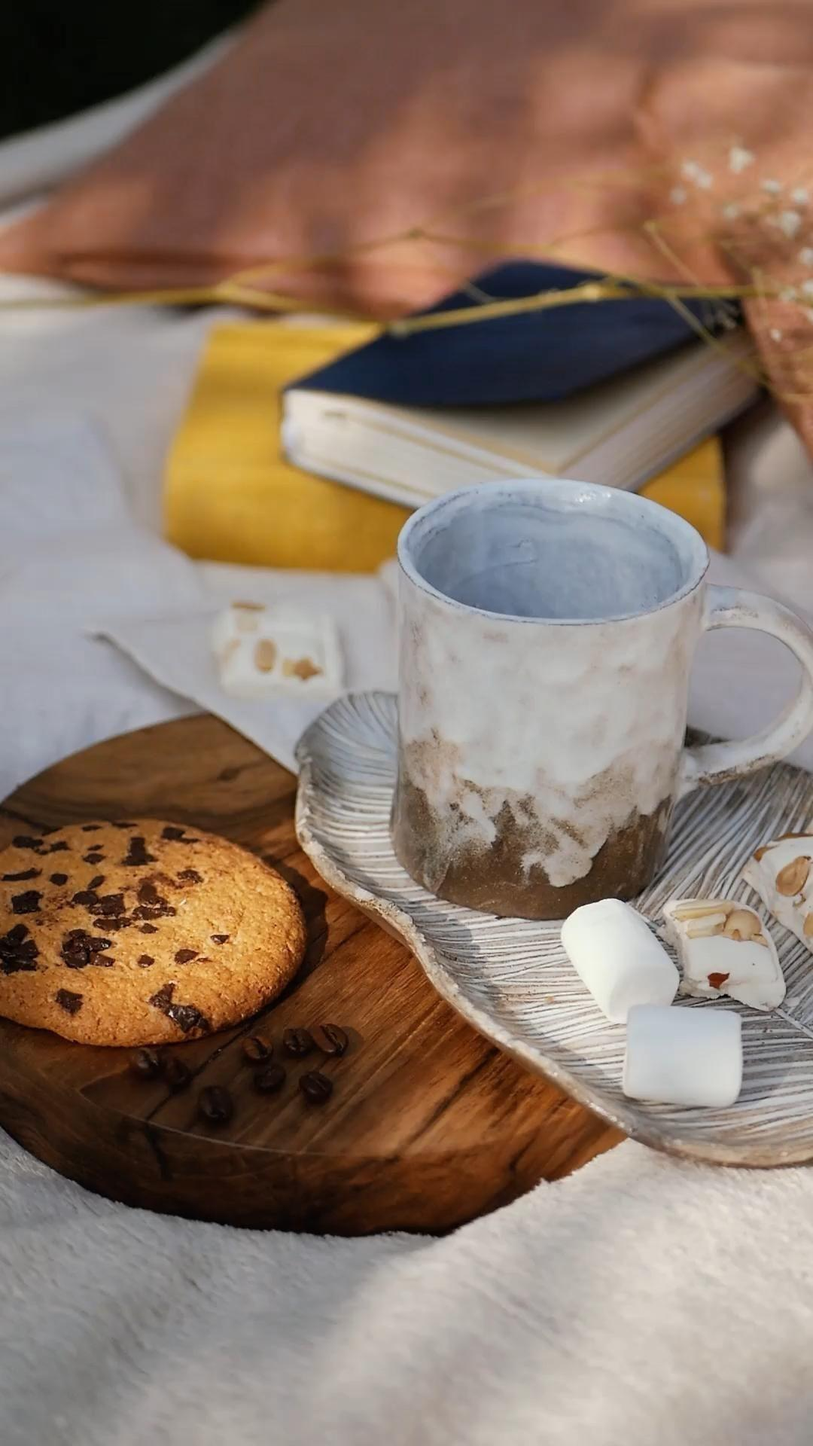cup-handle: (388, 473, 812, 920)
